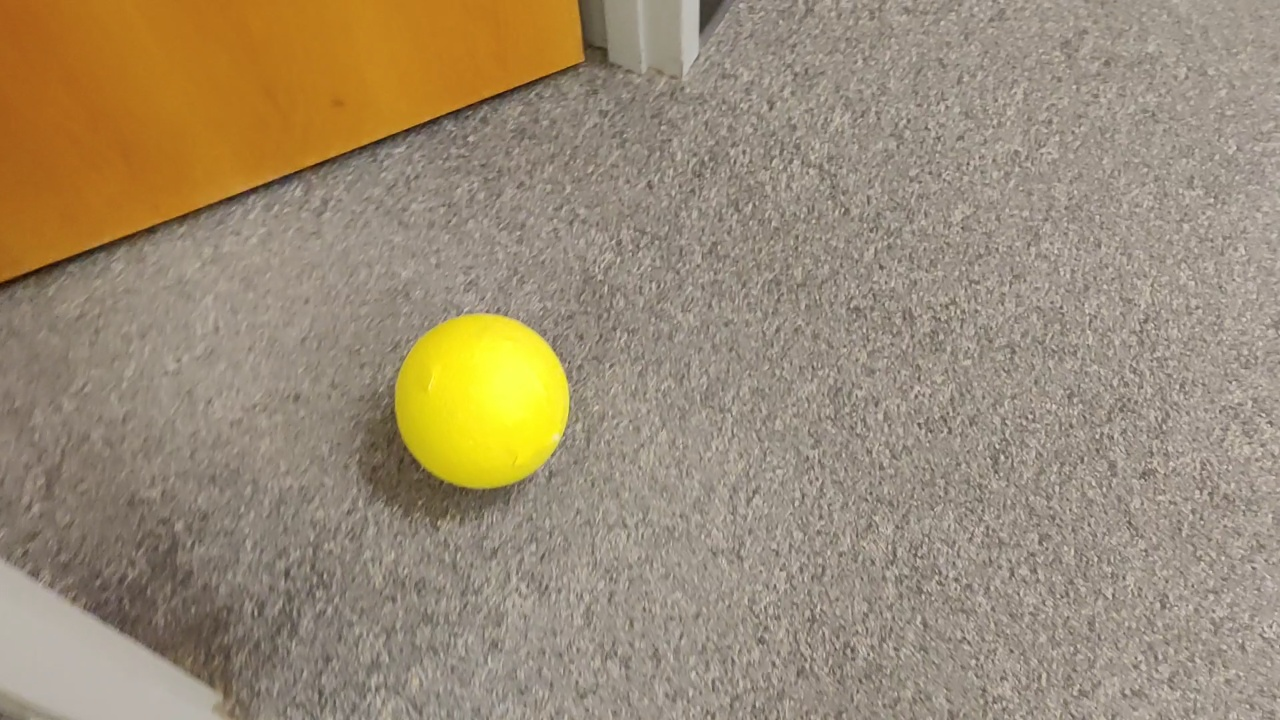Ball: (389, 311, 573, 498)
